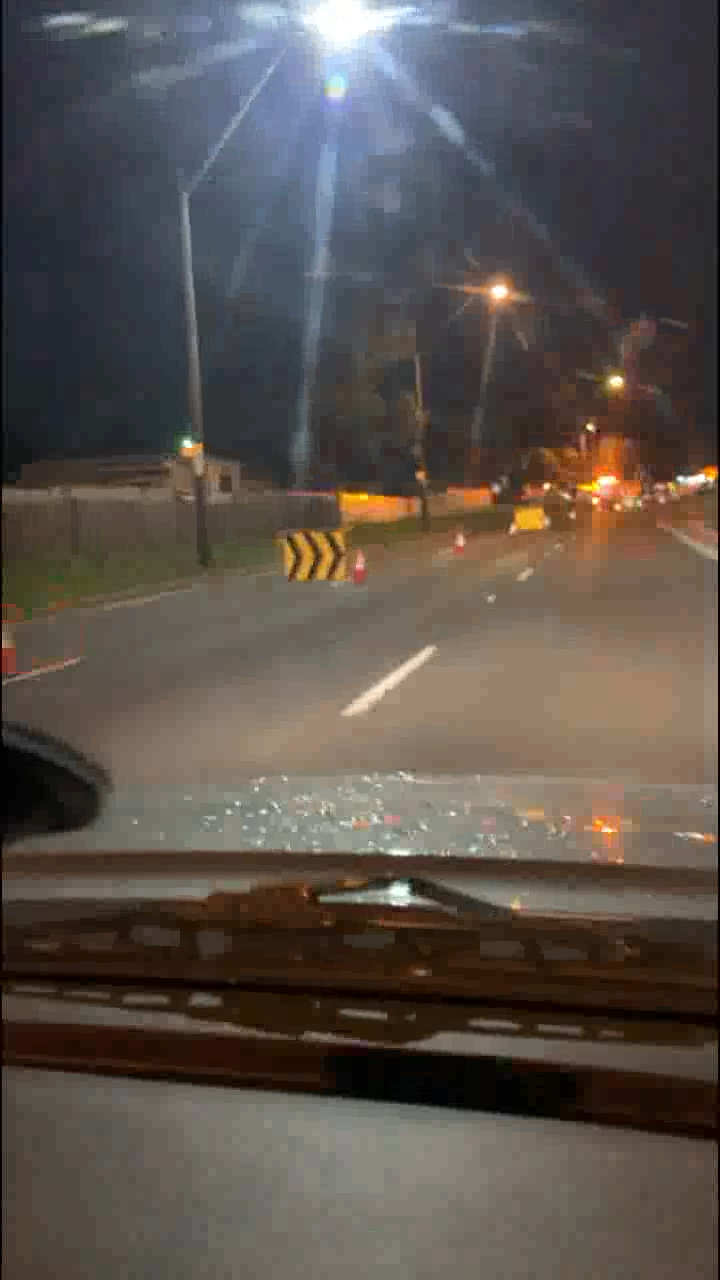road cone: (452, 530, 470, 554)
road works sign board: (281, 534, 362, 586)
